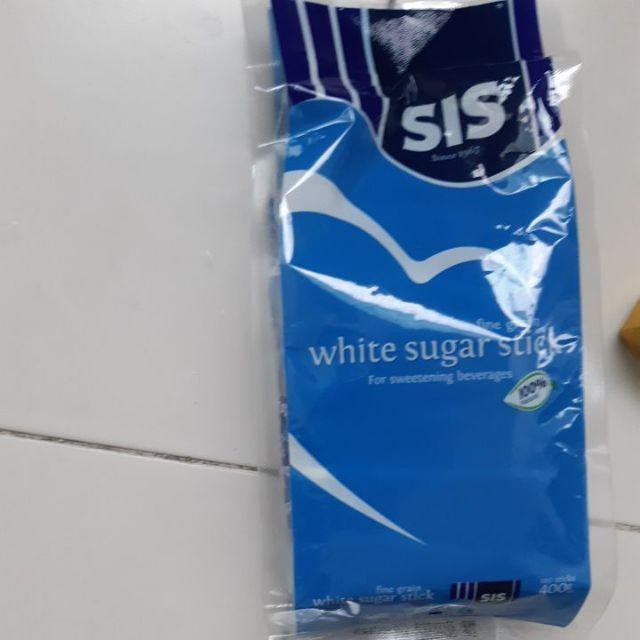sis white sugar: (244, 1, 606, 634)
